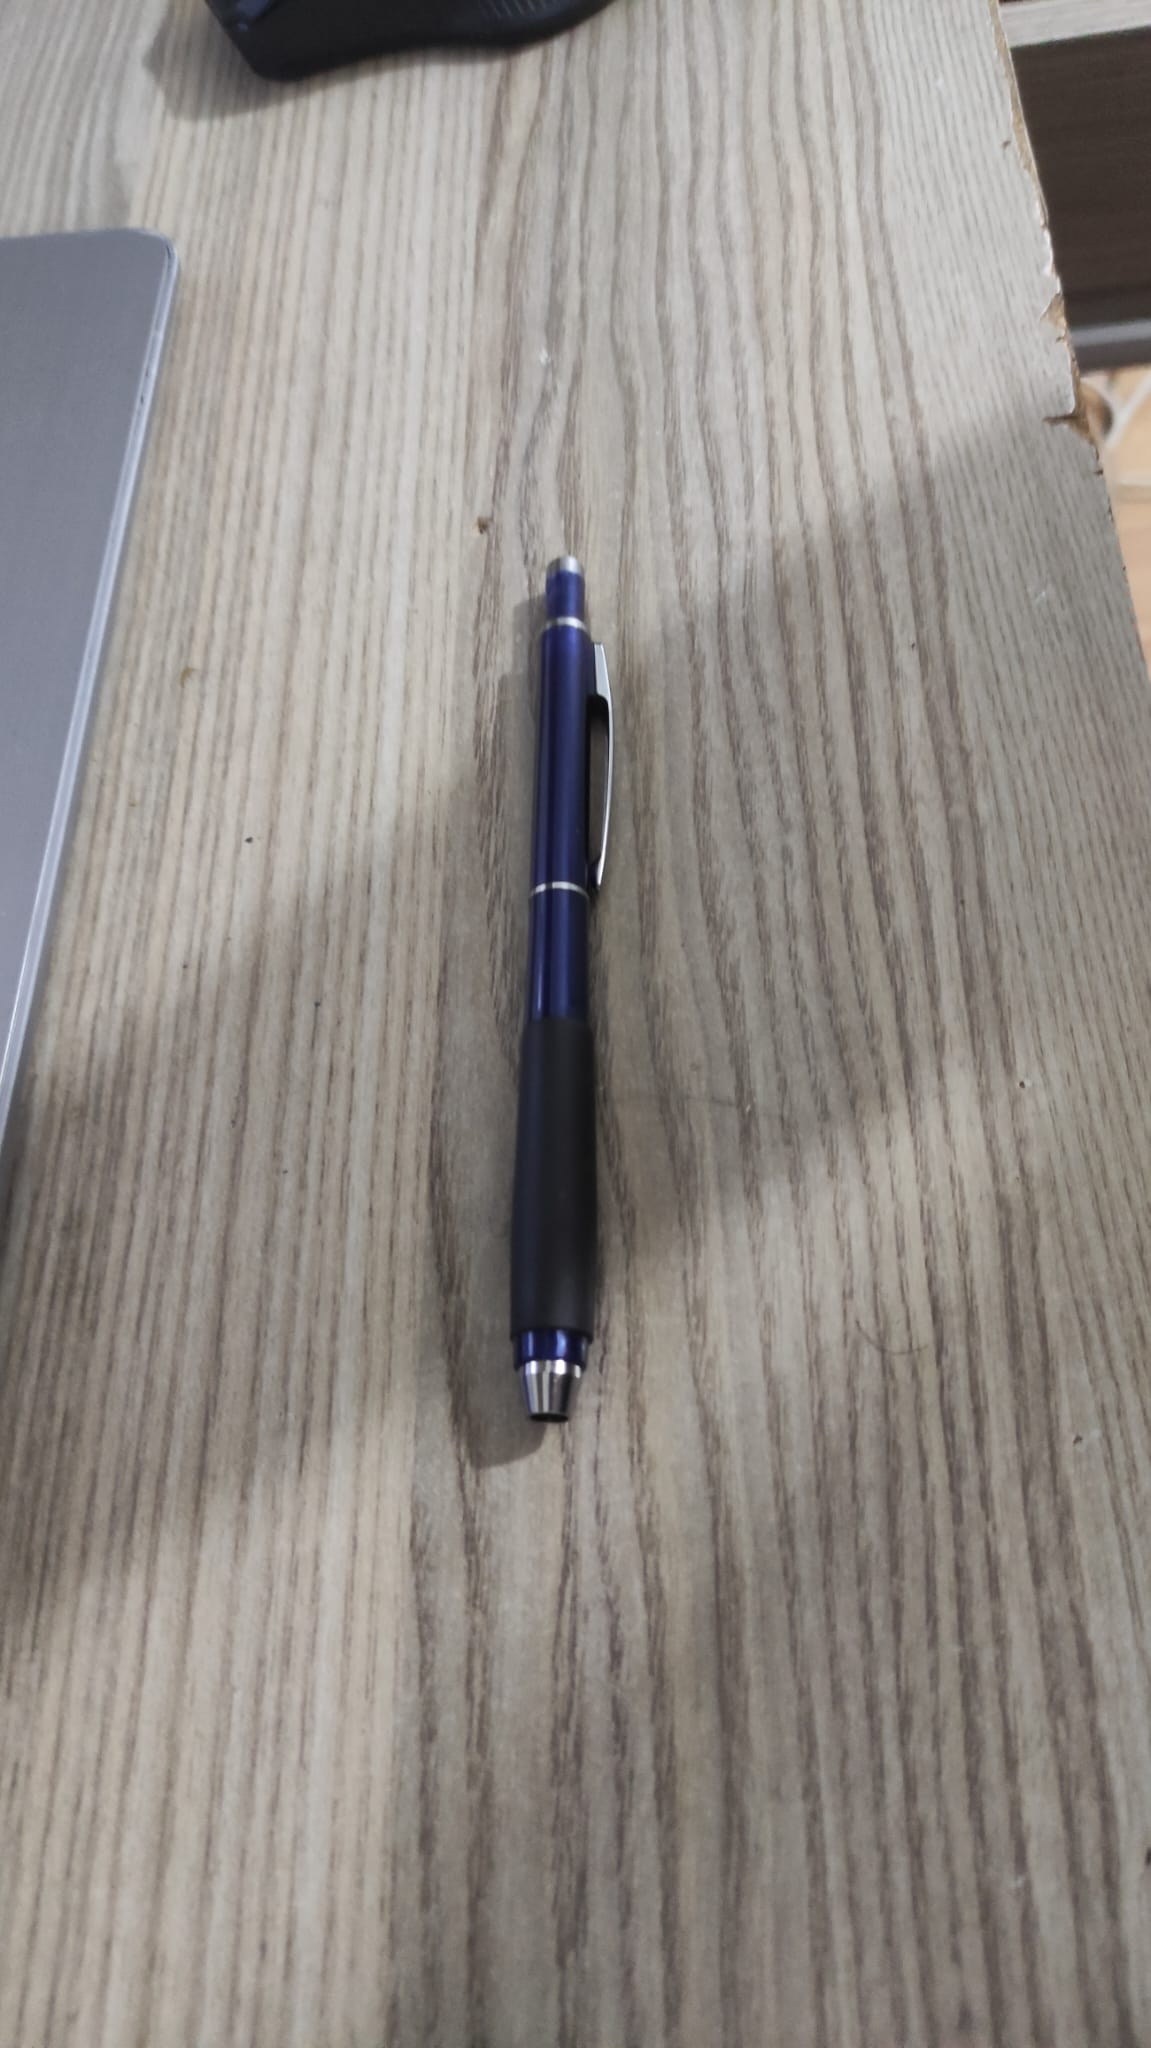kalem: (502, 561, 613, 1416)
